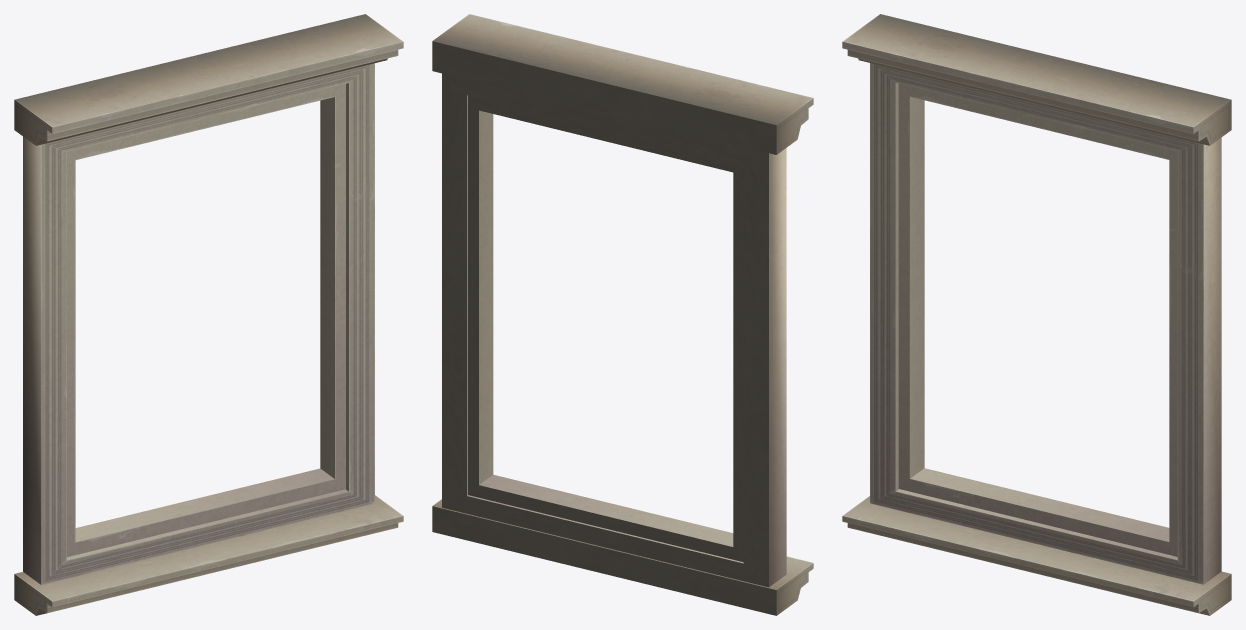
Rendered from porch_trim_window.fbx.
3 renders of one model, left to right at view 1: azimuth 30°, elevation 25°; view 2: azimuth 150°, elevation 25°; view 3: azimuth 330°, elevation 25°, orthographic.
Parts seen in each view (by area): view 1: porch_trim_window; view 2: porch_trim_window; view 3: porch_trim_window.
Part boxes in pixels (<box>): porch_trim_window: <box>14,14,403,615</box>; porch_trim_window: <box>432,14,813,615</box>; porch_trim_window: <box>842,14,1231,615</box>.
Bounding box in the file's own units: 1.66 × 2.27 × 0.311.
